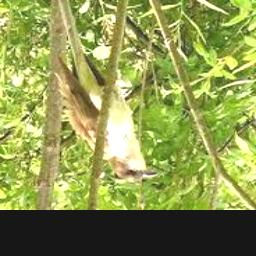Cuckoo: (54, 58, 159, 180)
